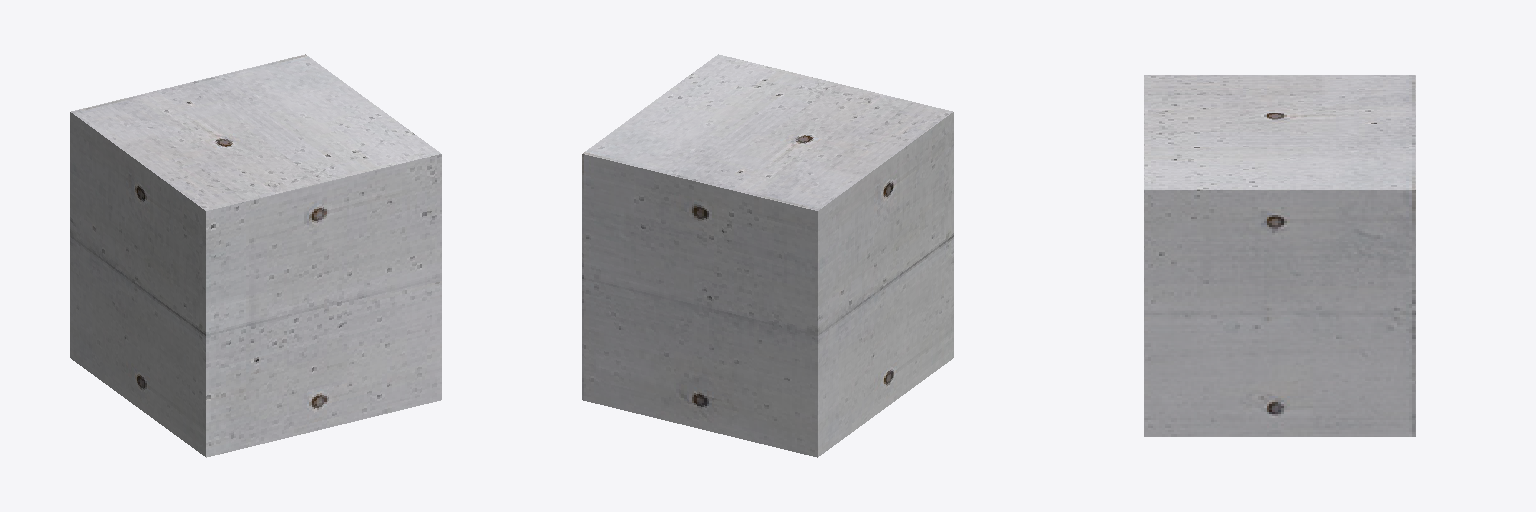
3 views of the same model, side by side, from view 1: azimuth 30°, elevation 25°; view 2: azimuth 150°, elevation 25°; view 3: azimuth 270°, elevation 25° (orthographic).
Parts seen in each view (by area): view 1: 立方体_立方体.001; view 2: 立方体_立方体.001; view 3: 立方体_立方体.001.
Part boxes in pixels (left/top/right/bottom): 立方体_立方体.001: left=70, top=54, right=441, bottom=457; 立方体_立方体.001: left=582, top=54, right=953, bottom=457; 立方体_立方体.001: left=1144, top=75, right=1415, bottom=436.
Bounding box in the file's own units: 808 × 808 × 808.
Materials: 1 (1 with a texture image).